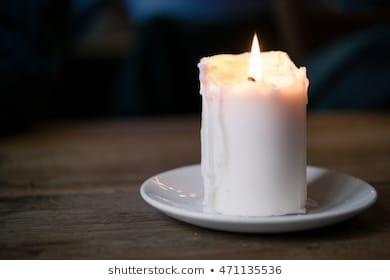fire: (244, 29, 264, 80)
